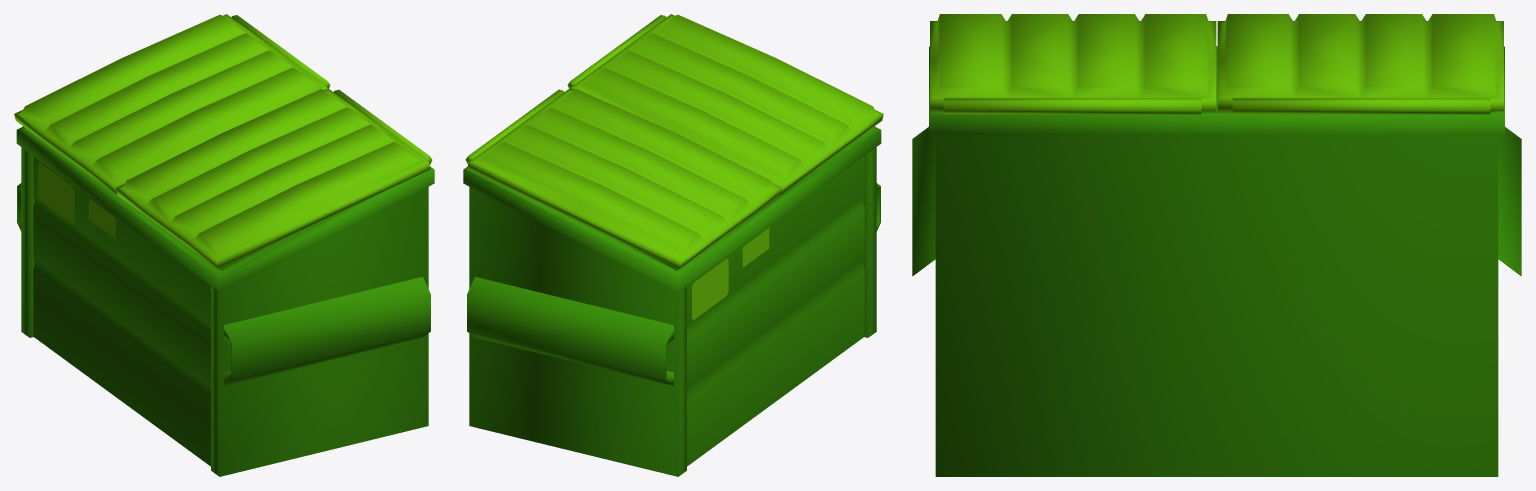
Rendered from DumpsterBlueNight.glb.
The picture shows the model from 3 angles, left to right: view 1: azimuth 30°, elevation 25°; view 2: azimuth 150°, elevation 25°; view 3: azimuth 270°, elevation 25°; orthographic projection. The views are drawn at different scales.
Visible parts, largest first — view 1: DumpsterBlueNight; view 2: DumpsterBlueNight; view 3: DumpsterBlueNight.
Boxes of the visible parts, x1,y1,x2,y2 form: DumpsterBlueNight: (14, 14, 434, 476); DumpsterBlueNight: (463, 14, 883, 476); DumpsterBlueNight: (912, 14, 1521, 476).
Size of the model in its own units: 1.93 by 2.26 by 3.25.
1 material, 1 textured.
